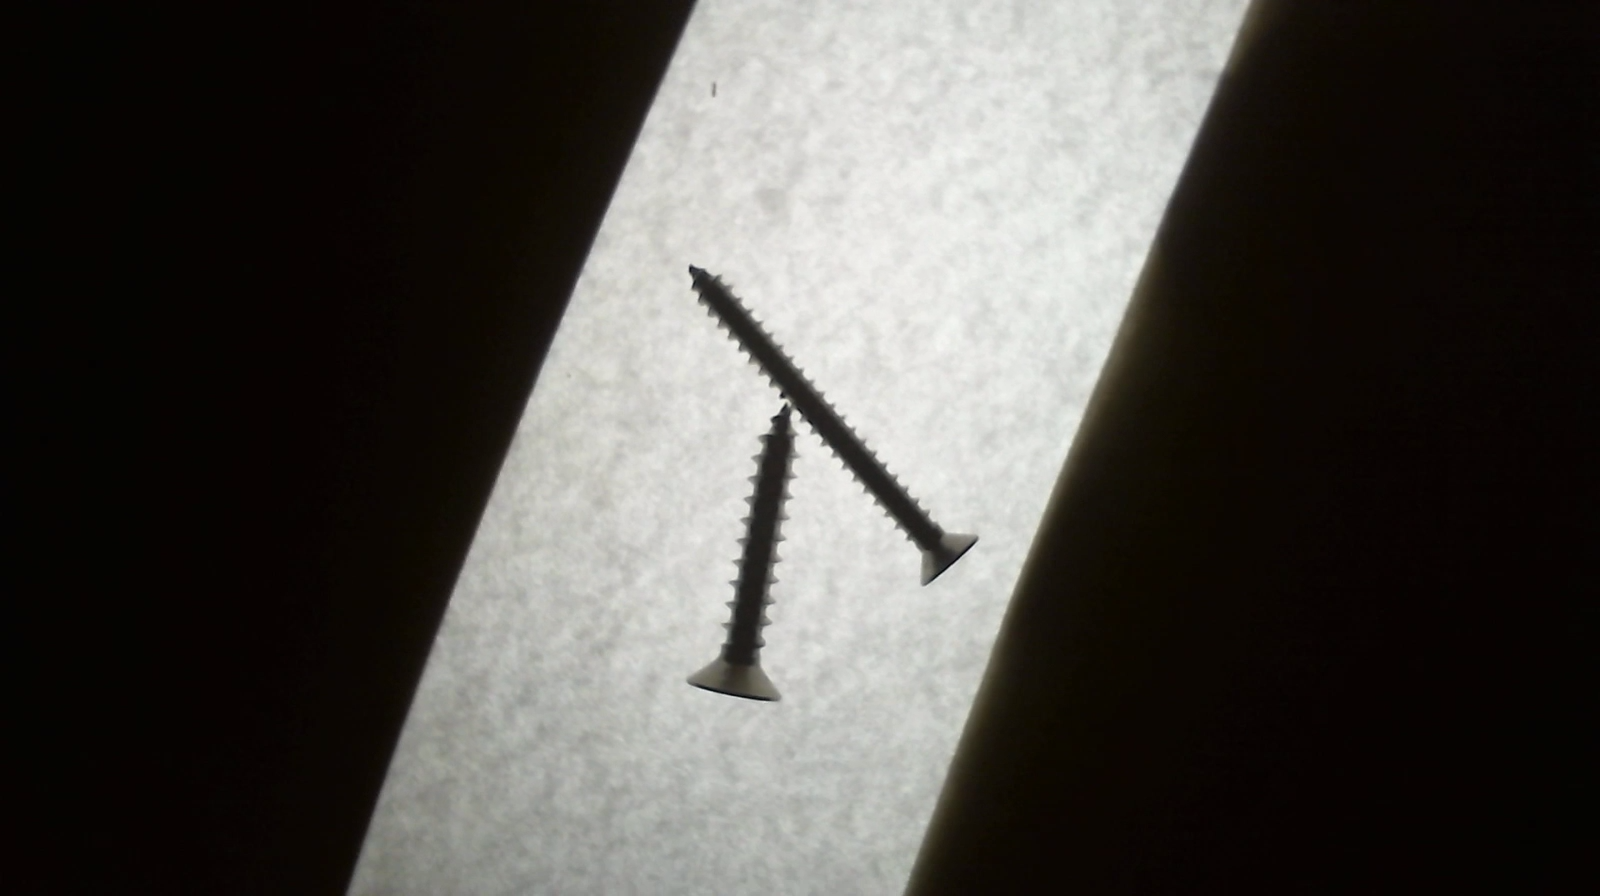S001: (675, 403, 804, 709)
S002: (687, 258, 980, 589)
